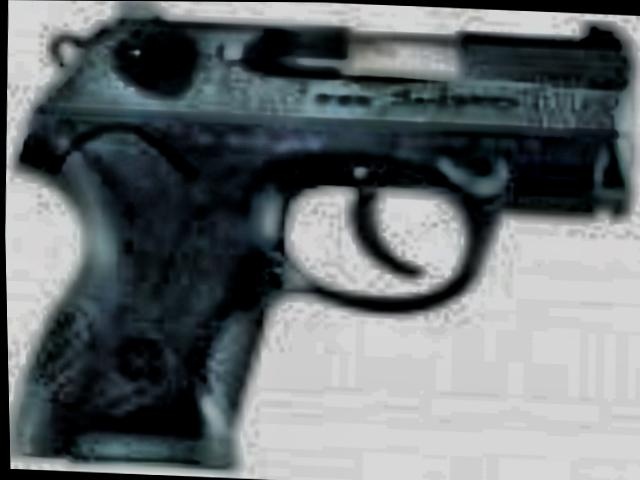pistol: (0, 0, 636, 480)
